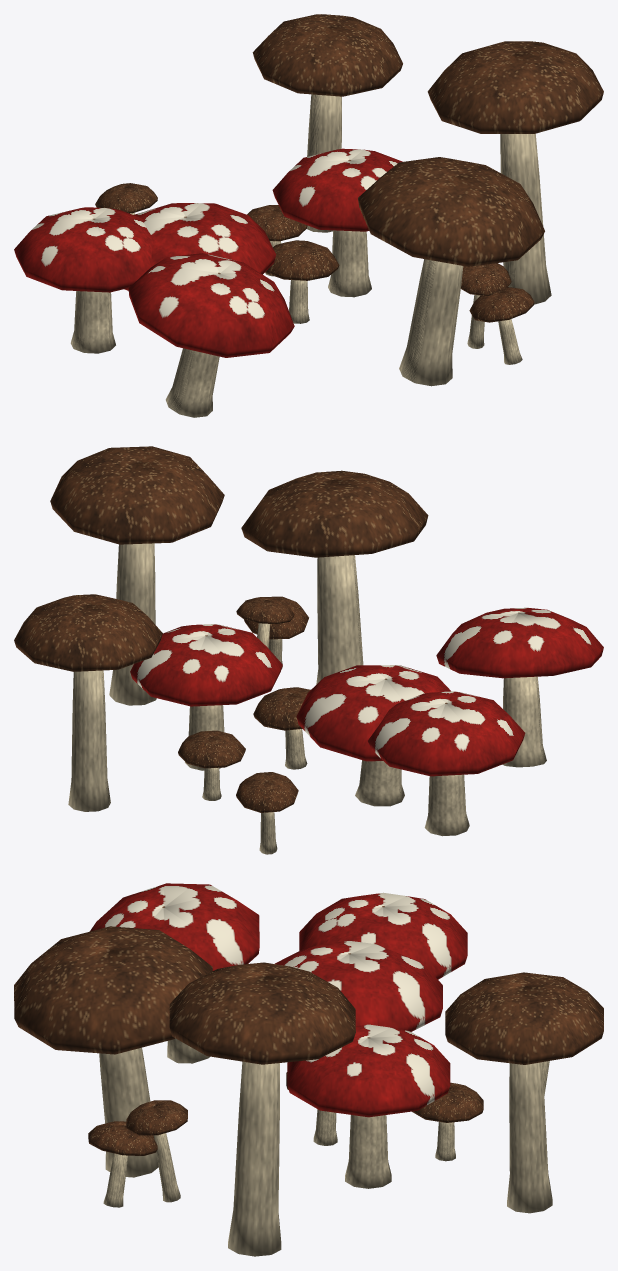
Rendered from Mushroom_Cluster.glb.
3 views of the same model, one above another, from view 1: azimuth 30°, elevation 25°; view 2: azimuth 150°, elevation 25°; view 3: azimuth 270°, elevation 25° (orthographic). The views are drawn at different scales.
Visible parts, largest first — view 1: Mushroom_Cluster__Caps; view 2: Mushroom_Cluster__Caps; view 3: Mushroom_Cluster__Caps.
Part boxes in pixels (x1,y1,x2,y2): Mushroom_Cluster__Caps: (14, 14, 603, 417); Mushroom_Cluster__Caps: (14, 446, 603, 854); Mushroom_Cluster__Caps: (14, 883, 603, 1256).
Bounding box in the file's own units: 8.05 × 3.67 × 7.27.
Materials: 1 (1 with a texture image).
